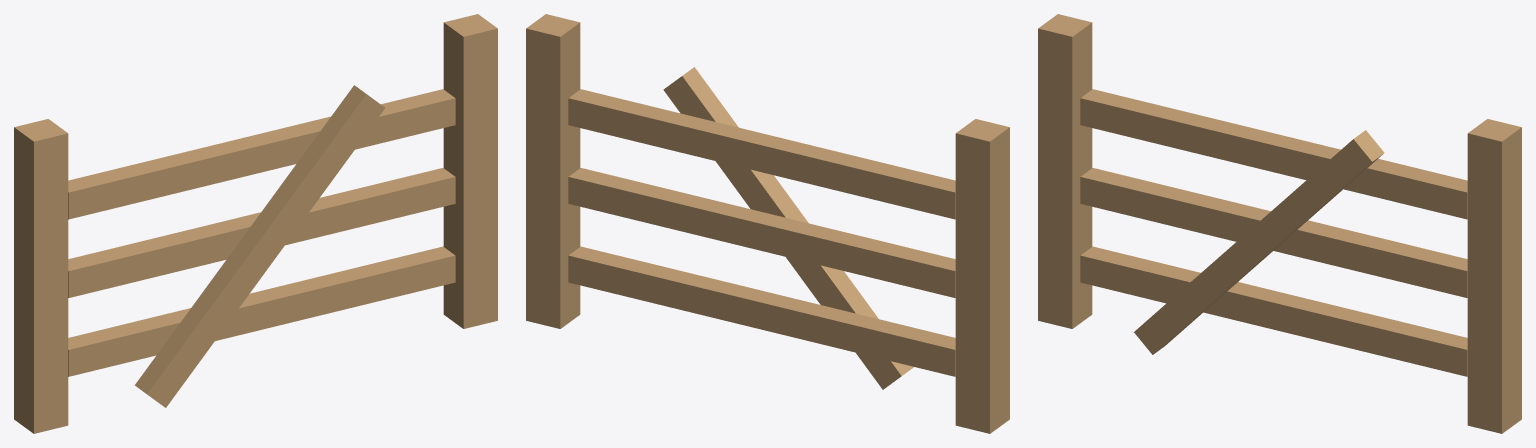
The model's file is cozy-farm-and-homestead-farm-gate-3e3d5141__19378.glb.
3 views of the same model, side by side, from view 1: azimuth 30°, elevation 25°; view 2: azimuth 150°, elevation 25°; view 3: azimuth 330°, elevation 25° (orthographic).
Parts seen in each view (by area): view 1: farm-gate; view 2: farm-gate; view 3: farm-gate.
Part boxes in pixels (x1=…): farm-gate: x1=14, y1=14, x2=497, y2=433; farm-gate: x1=526, y1=14, x2=1009, y2=433; farm-gate: x1=1038, y1=14, x2=1521, y2=433.
Bounding box in the file's own units: 2.16 × 1.3 × 0.2299.
